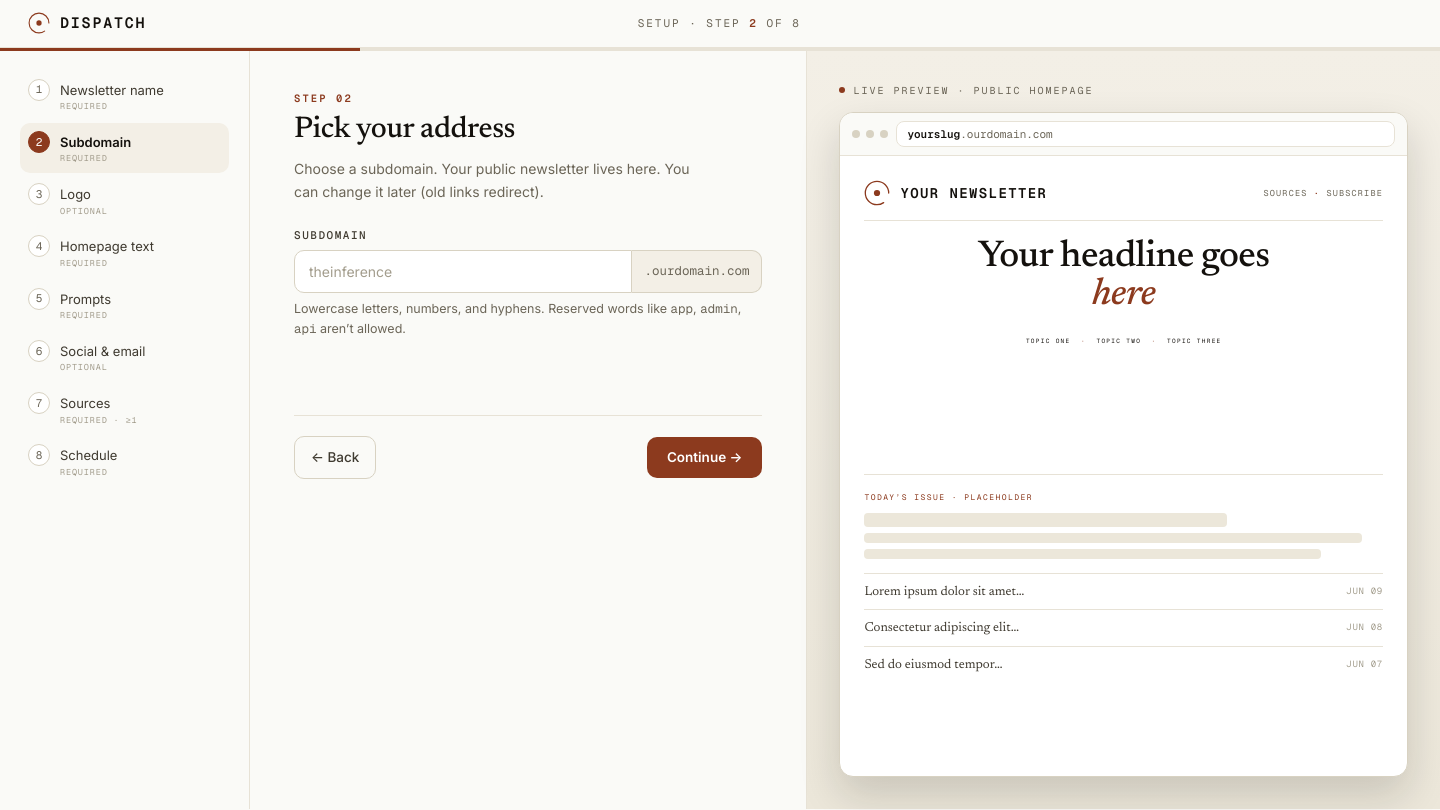
Test: test_REQ_033_slug_states (UI) › reports a taken slug
This screenshot has width=1440, height=810.
Expected: the heading "Pick your address" is shown, [294,115,515,145]
Type "candidate" into the field labelled "Subdomain".
click(463, 271); type("candidate")  # box [294,250,632,293]
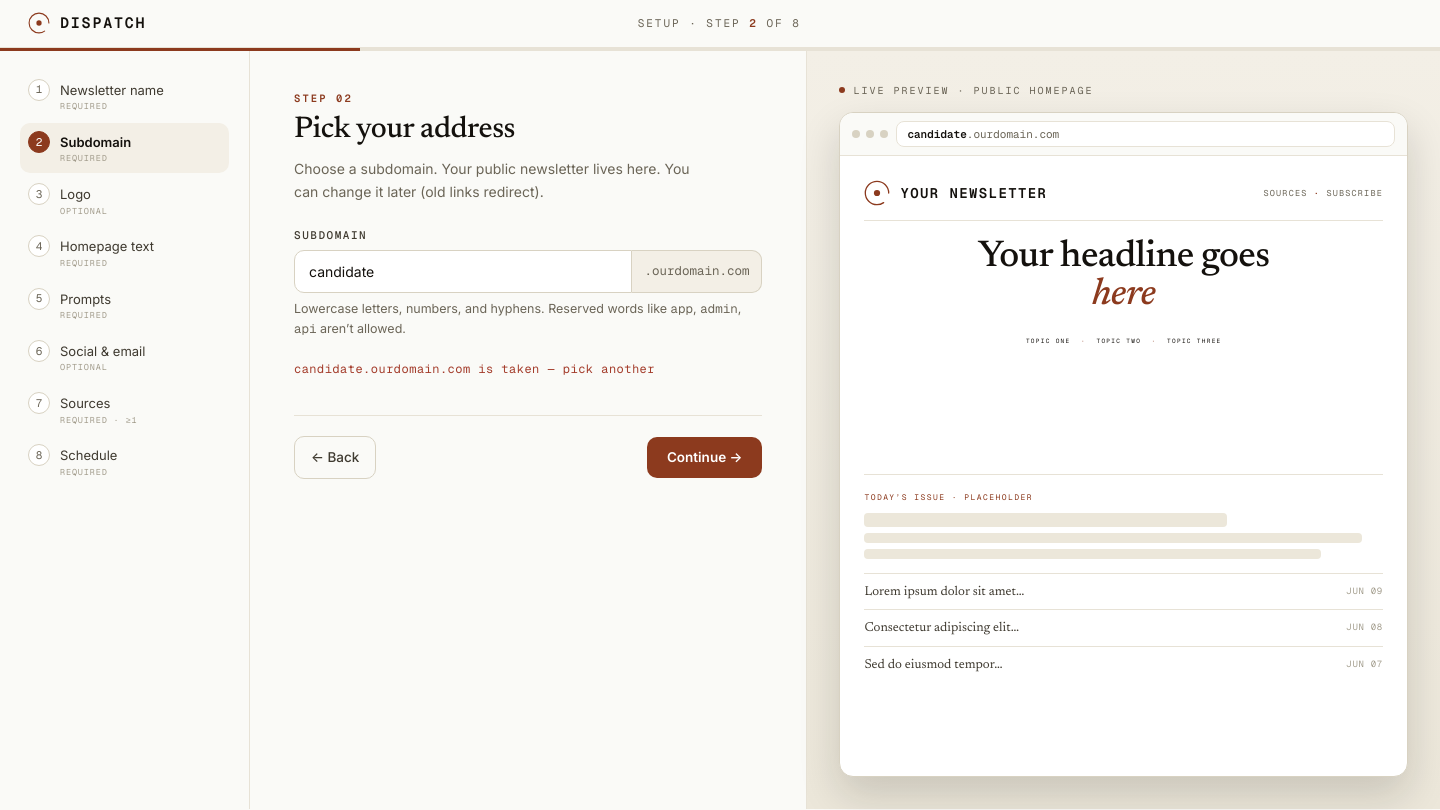
Expected: the text "candidate.ourdomain.com is taken — pick another" is shown, [294,361,655,377]
